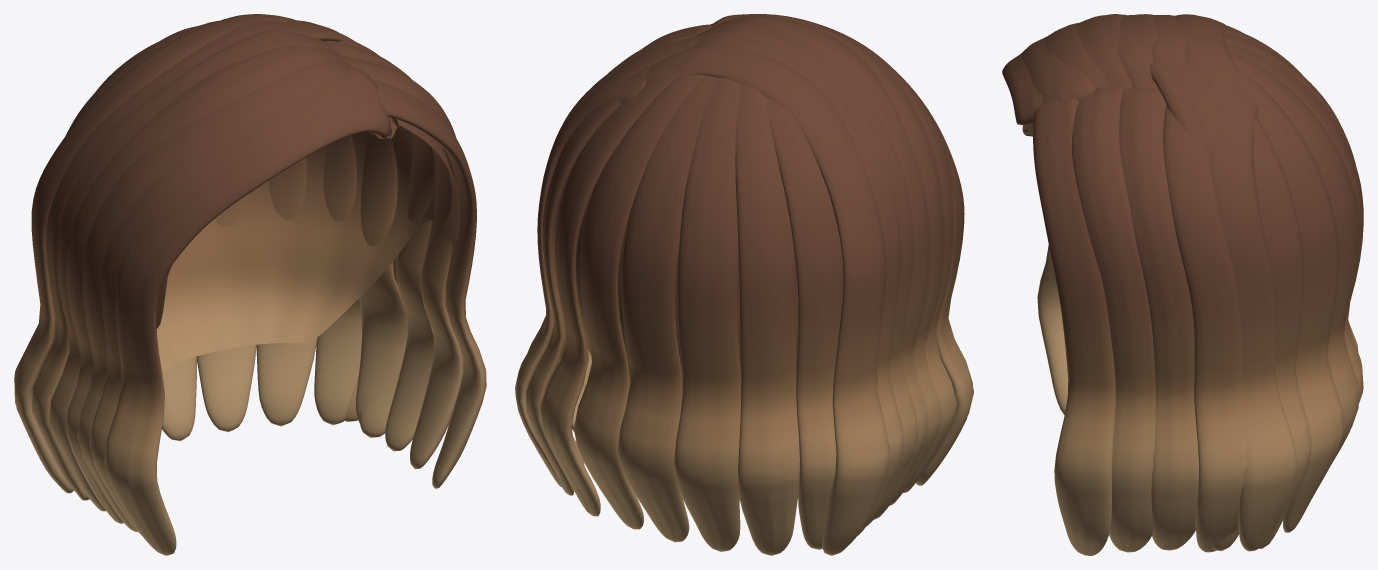
The model's file is straight-none-ombre.glb.
3 views of the same model, side by side, from view 1: azimuth 30°, elevation 25°; view 2: azimuth 150°, elevation 25°; view 3: azimuth 270°, elevation 25° (orthographic). The views are drawn at different scales.
Visible parts, largest first — view 1: 226 hair / Hair / sculpted 0.001, 226 hair / Hair / sculpted 1.002, 226 hair / Hair / sculpted 2.001, 226 hair / Hair / sculpted 1.001; view 2: 226 hair / Hair / sculpted 0.001, 226 hair / Hair / sculpted 2.001, 226 hair / Hair / sculpted 1.002, 226 hair / Hair / sculpted 1.001; view 3: 226 hair / Hair / sculpted 1.002, 226 hair / Hair / sculpted 2.001, 226 hair / Hair / sculpted 0.001.
Boxes of the visible parts, left/top/right/bottom form: 226 hair / Hair / sculpted 0.001: left=14, top=14, right=434, bottom=555; 226 hair / Hair / sculpted 1.002: left=49, top=19, right=486, bottom=534; 226 hair / Hair / sculpted 2.001: left=31, top=20, right=463, bottom=531; 226 hair / Hair / sculpted 1.001: left=156, top=119, right=460, bottom=371; 226 hair / Hair / sculpted 0.001: left=540, top=16, right=973, bottom=555; 226 hair / Hair / sculpted 2.001: left=515, top=14, right=944, bottom=549; 226 hair / Hair / sculpted 1.002: left=527, top=14, right=957, bottom=555; 226 hair / Hair / sculpted 1.001: left=576, top=189, right=798, bottom=382; 226 hair / Hair / sculpted 1.002: left=1021, top=14, right=1359, bottom=555; 226 hair / Hair / sculpted 2.001: left=1045, top=15, right=1363, bottom=552; 226 hair / Hair / sculpted 0.001: left=1002, top=14, right=1358, bottom=550.
Bounding box in the file's own units: 0.8536 × 0.9852 × 0.7033.
